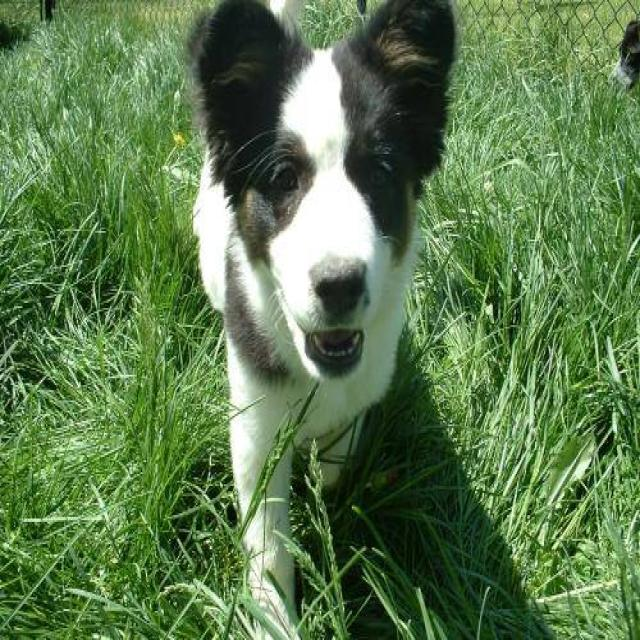Dog: (186, 2, 454, 383)
